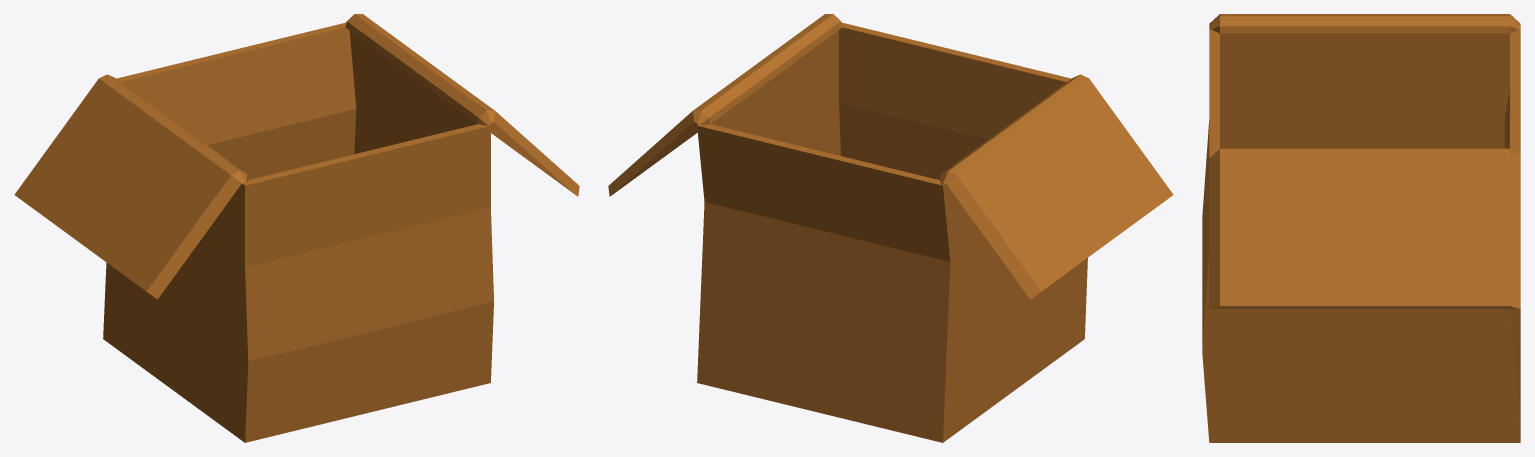
The picture shows the model from 3 angles, left to right: view 1: azimuth 30°, elevation 25°; view 2: azimuth 150°, elevation 25°; view 3: azimuth 270°, elevation 25°; orthographic projection. The views are drawn at different scales.
Visible parts, largest first — view 1: BOX; view 2: BOX; view 3: BOX.
Part boxes in pixels (x1,y1,x2,y2): BOX: [14, 14, 579, 442]; BOX: [608, 14, 1173, 442]; BOX: [1202, 14, 1520, 442].
Bounding box in the file's own units: 352 × 209 × 205.
